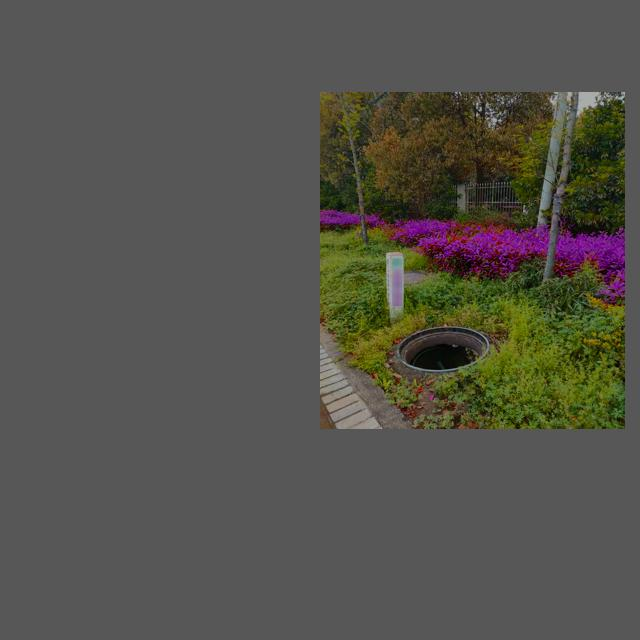lose: (395, 324, 490, 373)
